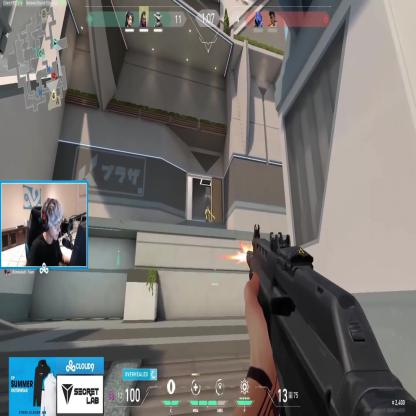enemy: (204, 206, 210, 228)
enemy_head: (207, 206, 209, 211)
